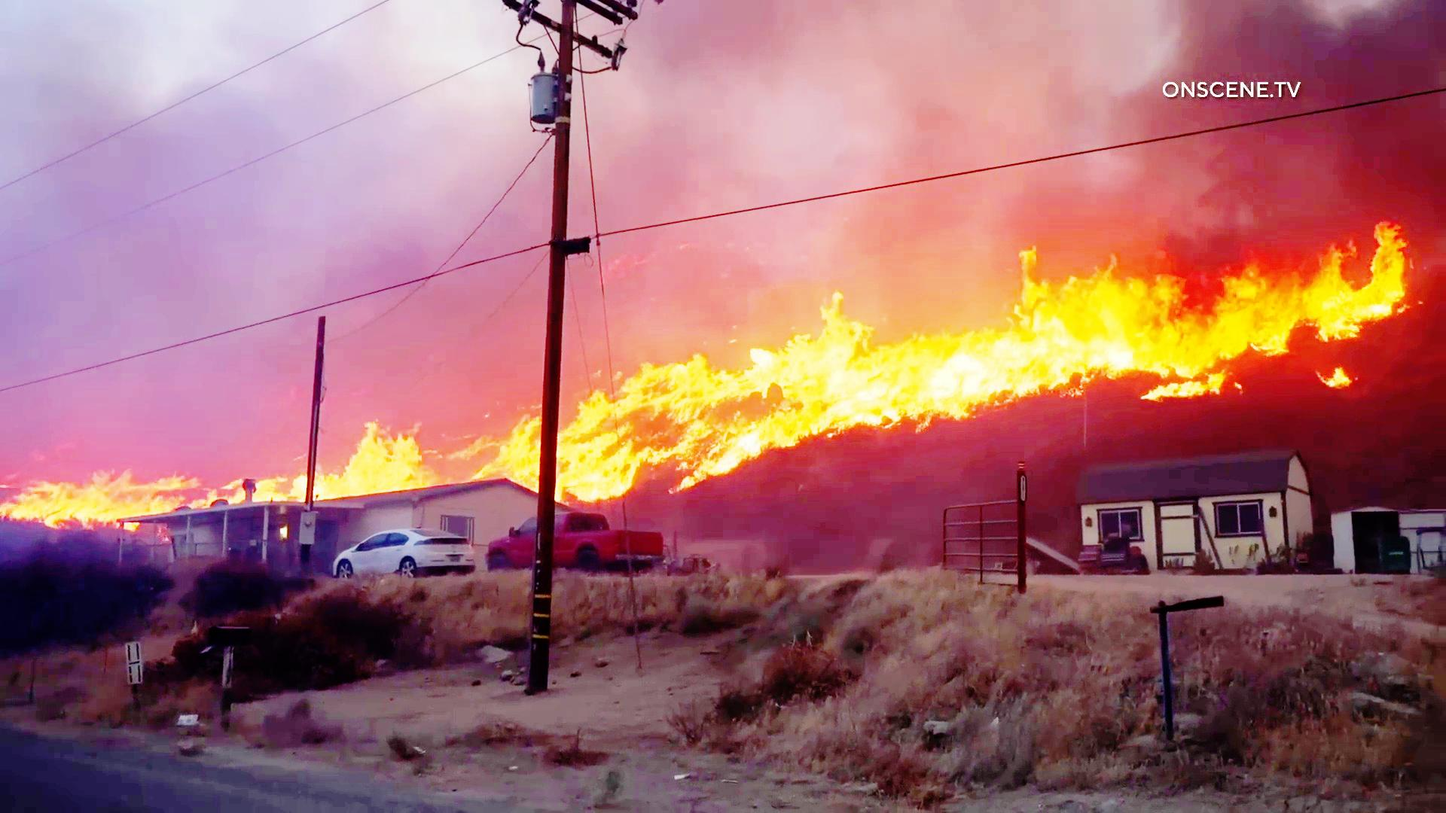fire: (555, 300, 957, 515), (965, 254, 1407, 401), (26, 432, 392, 518)
